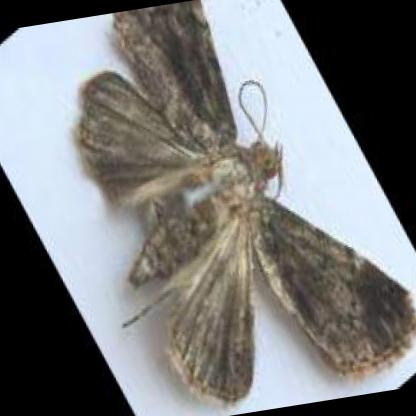Leaf Webber: (79, 0, 416, 407)
